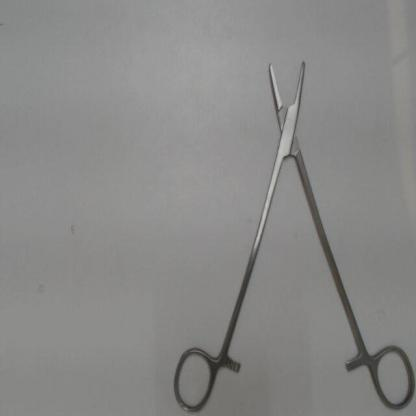8 Mayo Needle Holder: (165, 51, 415, 415)
